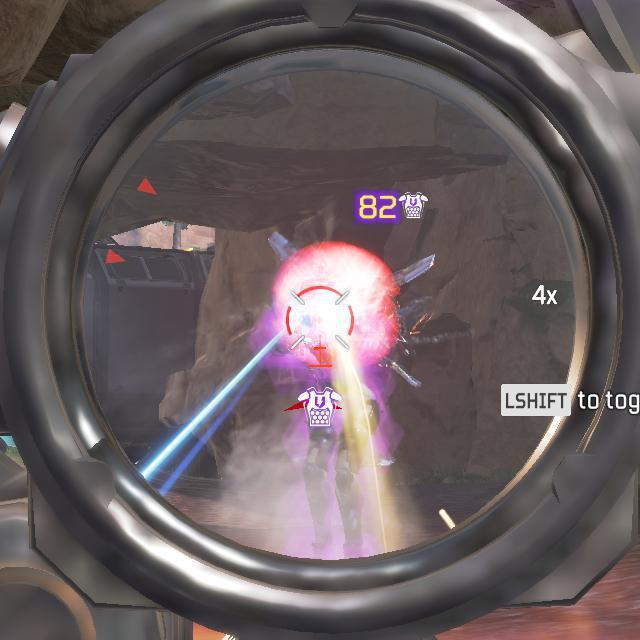avatar: (269, 238, 403, 560)
object: (268, 237, 402, 379)
